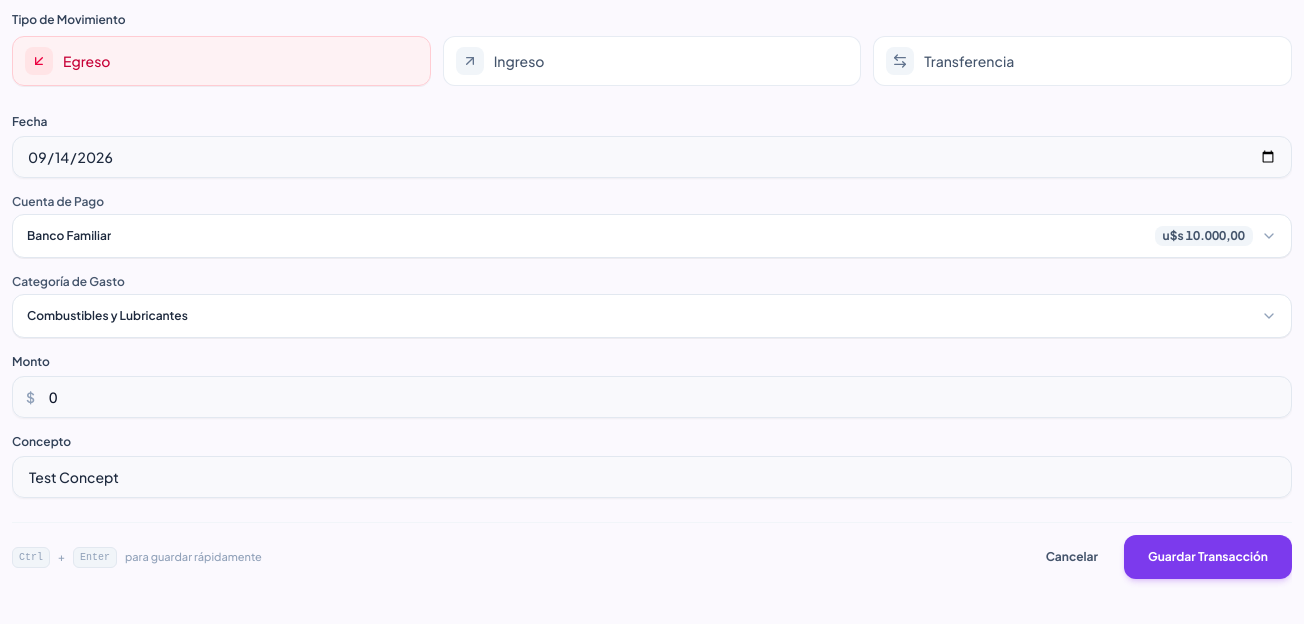
Test: QuickTransactionForm Component (T007) › Form Validation Rules › blocks submission when amount is zero or negative
This screenshot has width=1304, height=624.
Step 1. Click the button "Guardar Transacción" → (1208, 557), box [1124,535,1292,579]
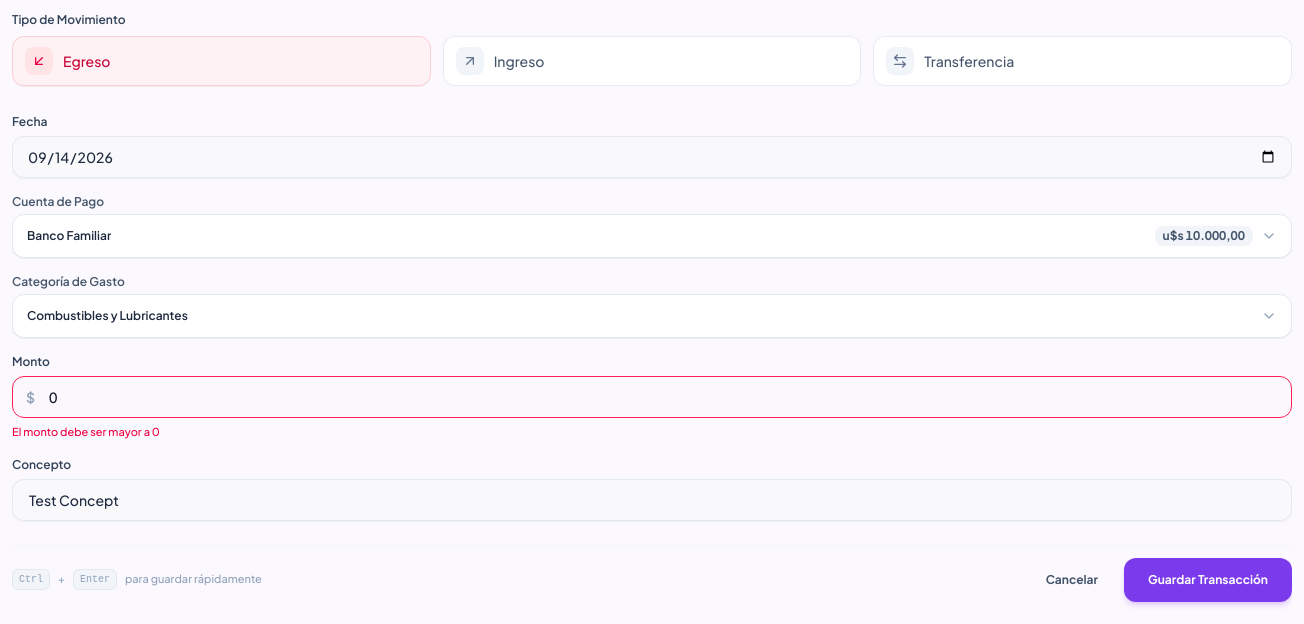
Expected: the text "El monto debe ser mayor a 0" is shown, [12,425,160,438]
